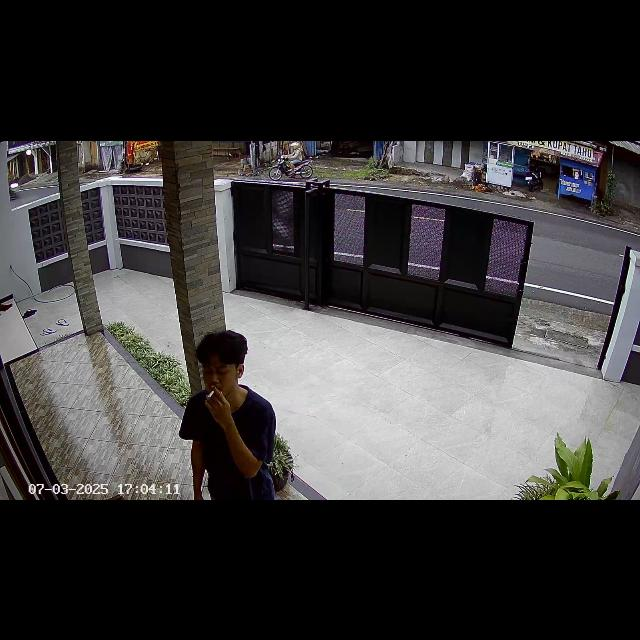rokok: (204, 388, 216, 398)
